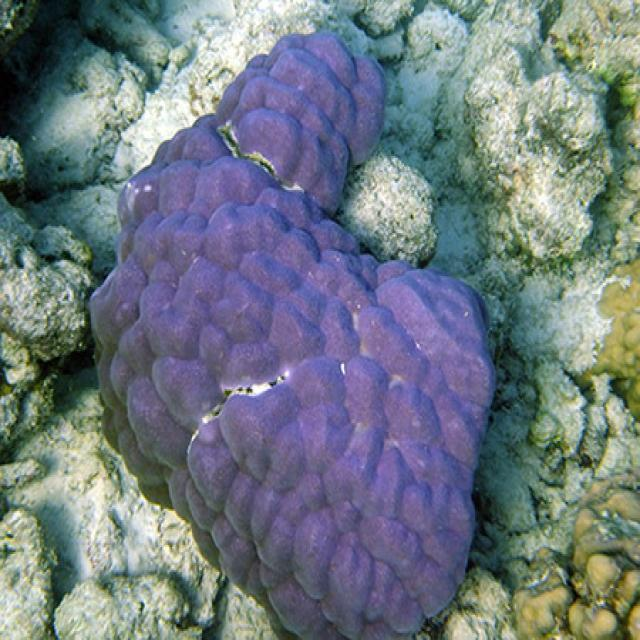Coral: (86, 29, 494, 640), (510, 472, 640, 640), (576, 263, 640, 424)
